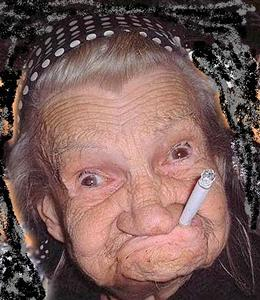cigarette: (182, 168, 217, 230)
